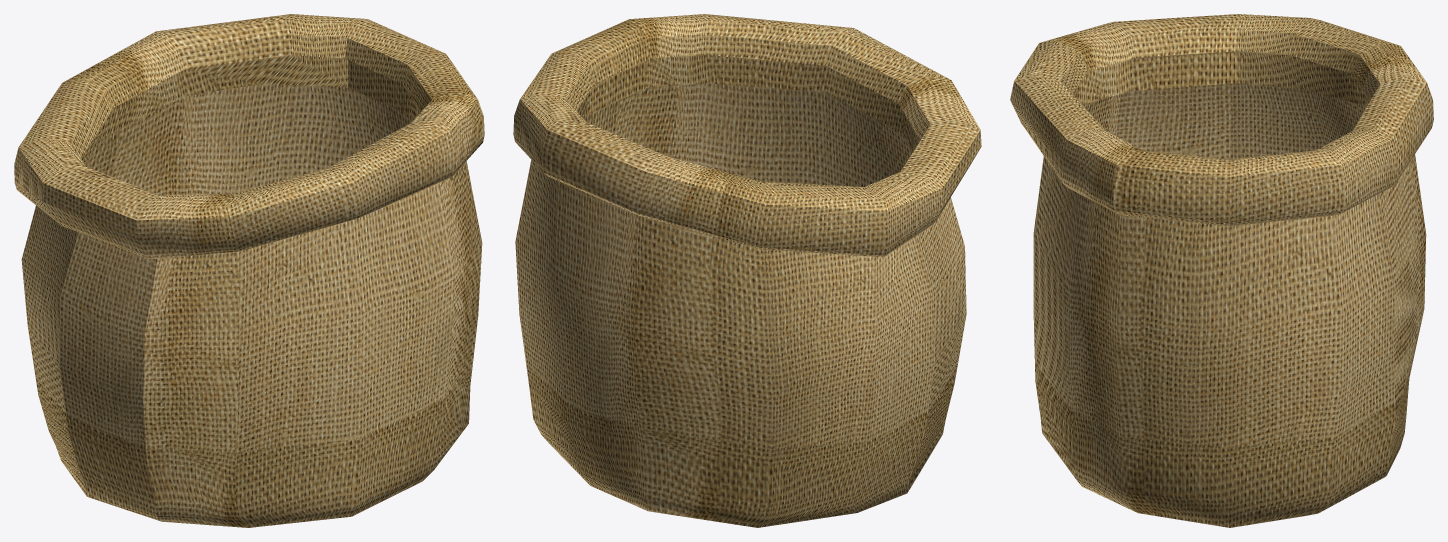
Rendered from linen.fbx.
3 renders of one model, left to right at view 1: azimuth 30°, elevation 25°; view 2: azimuth 150°, elevation 25°; view 3: azimuth 270°, elevation 25°, orthographic. The views are drawn at different scales.
Parts seen in each view (by area): view 1: Cylinder009; view 2: Cylinder009; view 3: Cylinder009.
Boxes of the visible parts, x1,y1,x2,y2 form: Cylinder009: (14,14,484,527); Cylinder009: (513,14,981,527); Cylinder009: (1010,14,1433,527).
Size of the model in its own units: 20.35 by 17.31 by 18.12.
